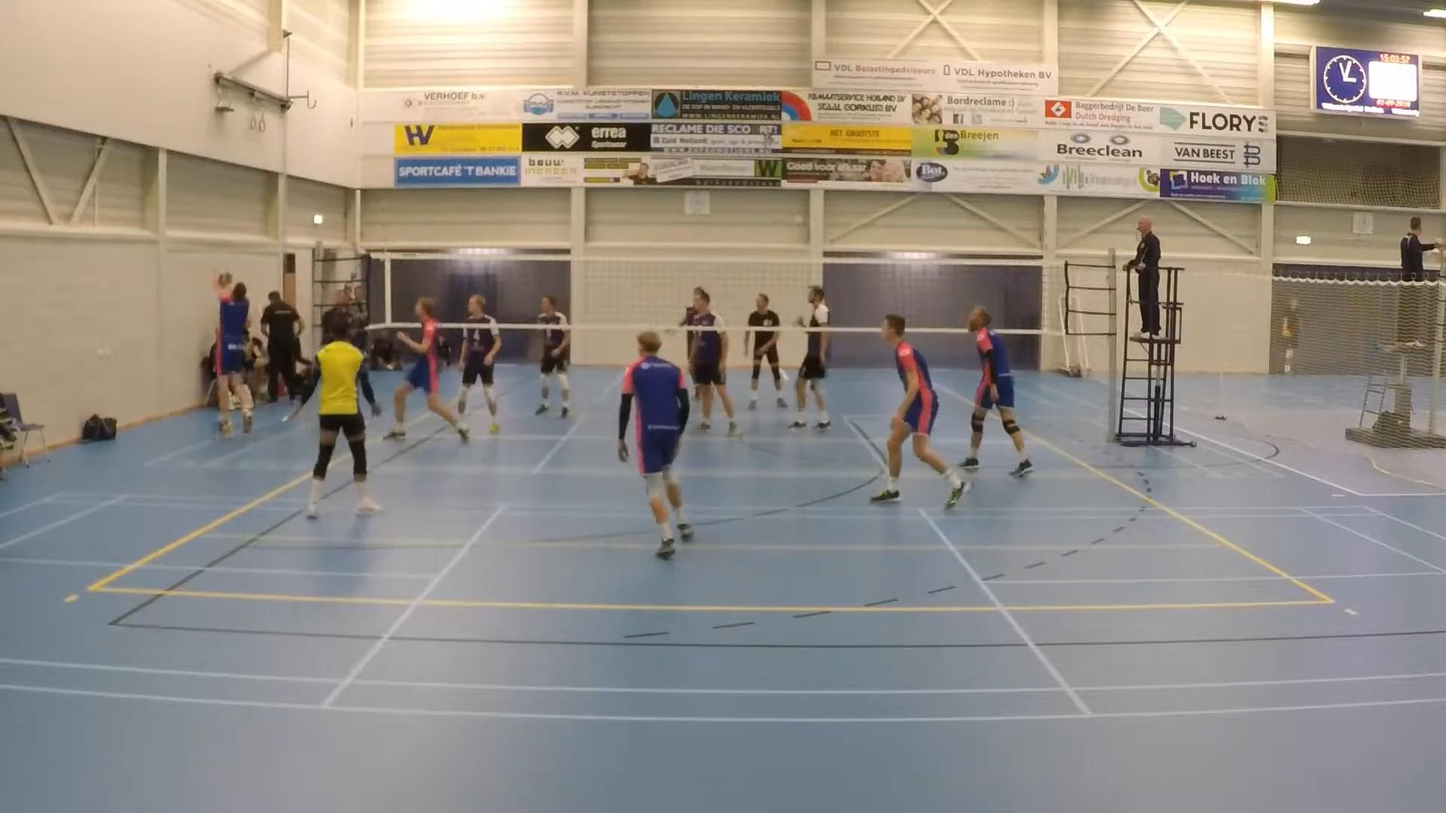difesa: (205, 270, 256, 438)
